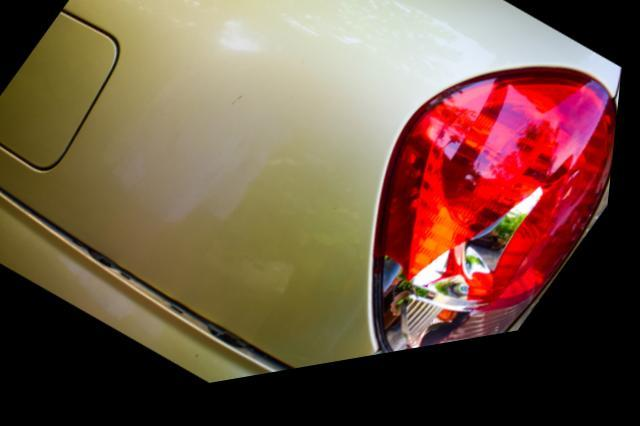lamp broken: (378, 86, 622, 369)
